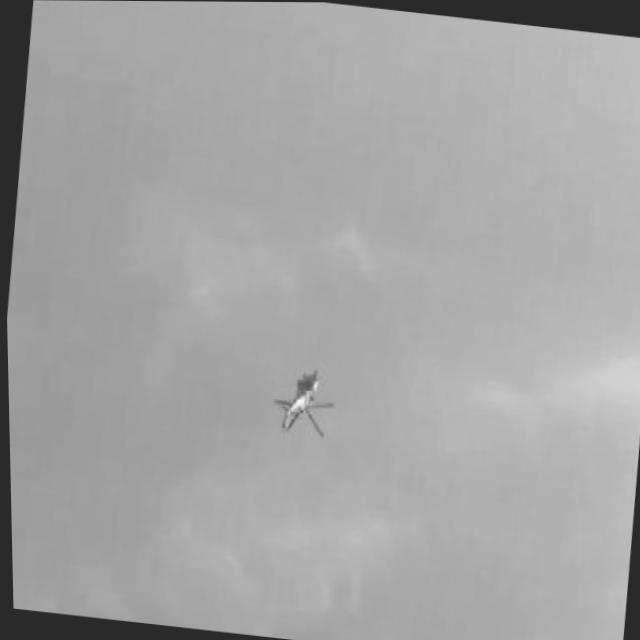helikopter: (265, 365, 334, 437)
